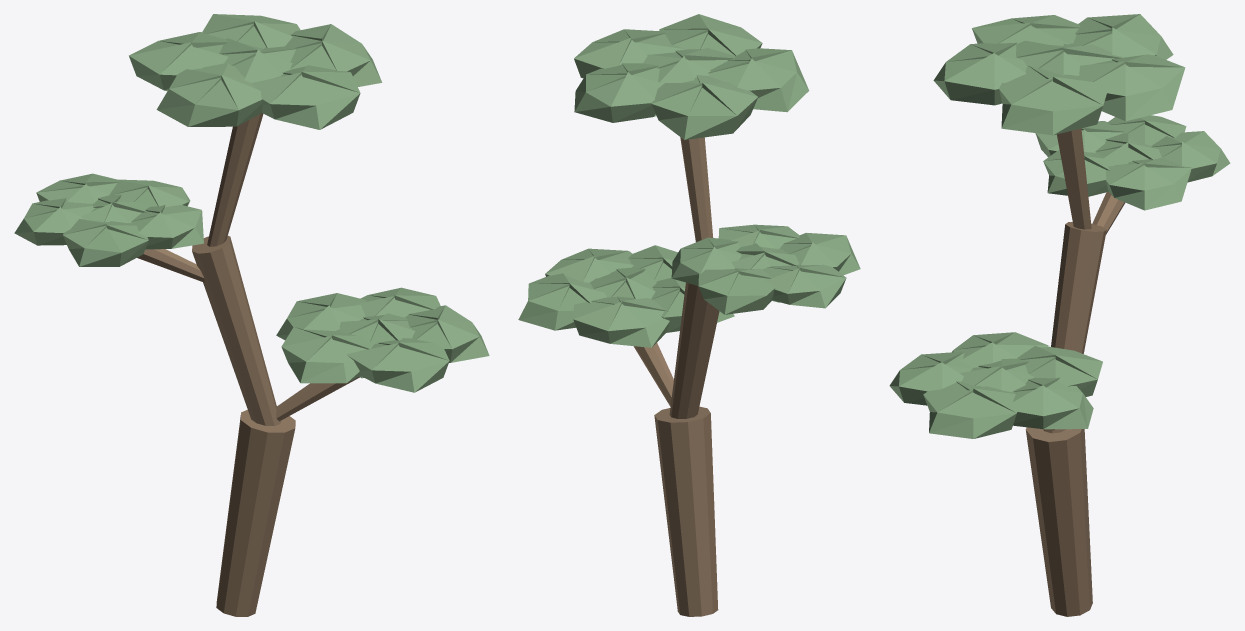
3 renders of one model, left to right at view 1: azimuth 30°, elevation 25°; view 2: azimuth 150°, elevation 25°; view 3: azimuth 270°, elevation 25°, orthographic. The views are drawn at different scales.
Parts seen in each view (by area): view 1: pine-tree; view 2: pine-tree; view 3: pine-tree.
Boxes of the visible parts, x1,y1,x2,y2 form: pine-tree: (14, 14, 489, 616); pine-tree: (518, 14, 860, 616); pine-tree: (889, 14, 1230, 616).
Bounding box in the file's own units: 3.12 × 4.47 × 2.42.
